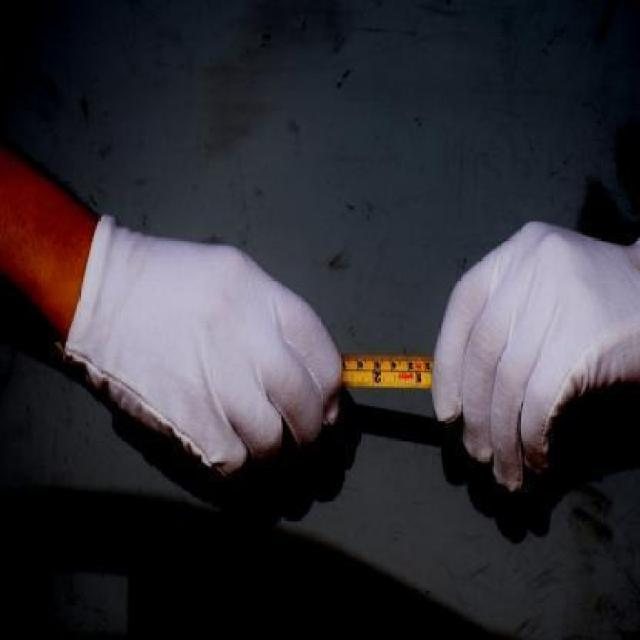hand_glove: (103, 220, 348, 478), (430, 216, 621, 502)
